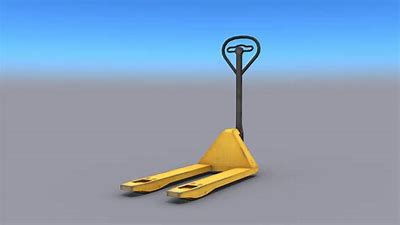Pallet Jack: (120, 33, 263, 202)
